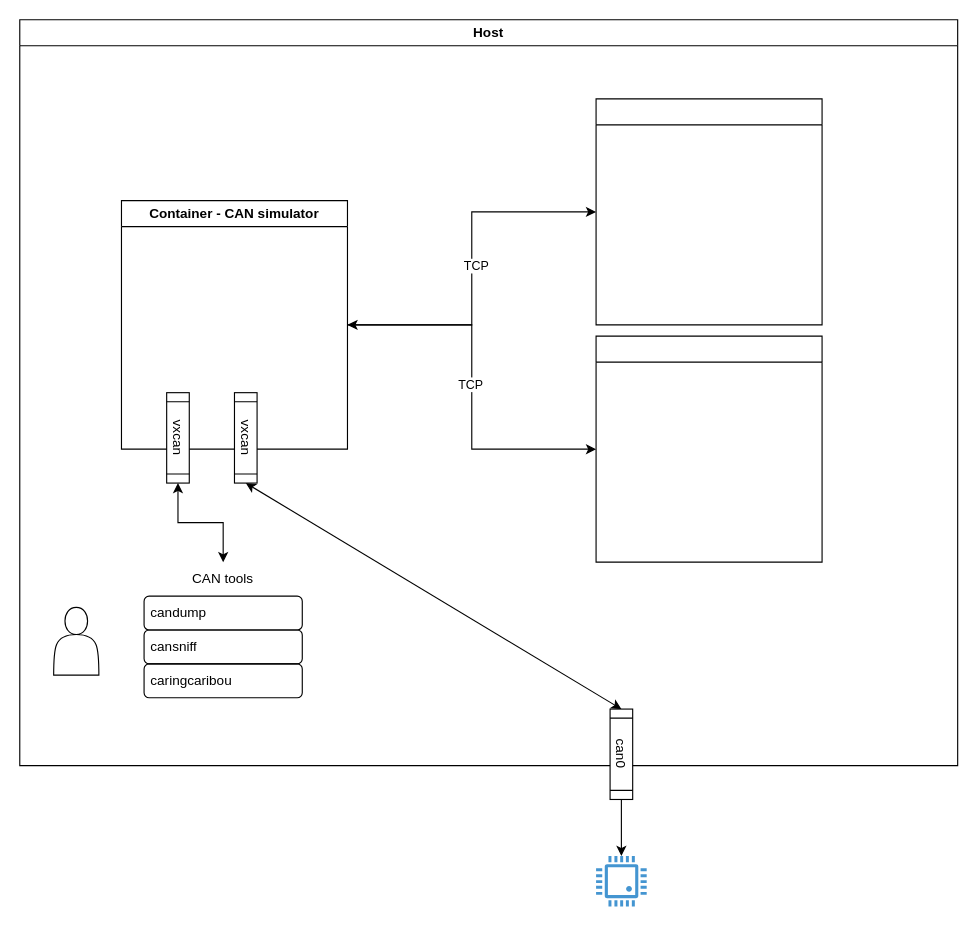
The diagram is 977 pixels wide and 950 high, and some of its shapes have lost their labels. Each missing label, with the centre of its shape:
Container - Controls: pixel 708 448
Container - GUI: pixel 708 211
ECU: pixel 621 880
